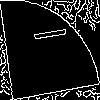I: (25, 25, 68, 45)
